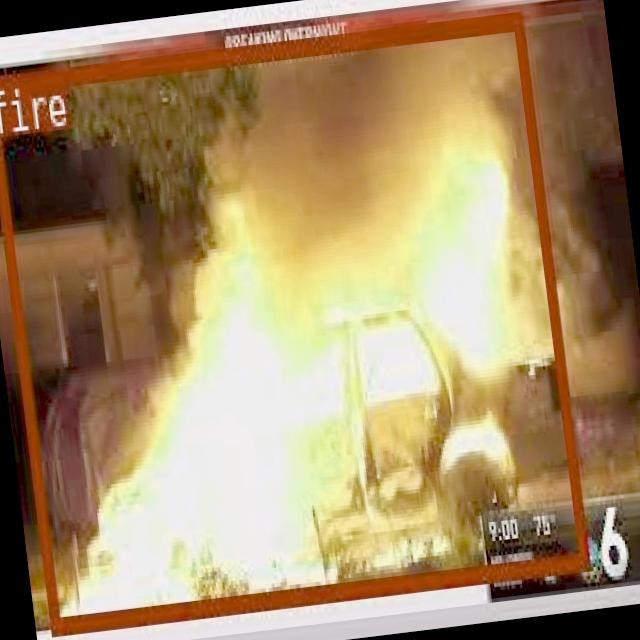fire: (0, 8, 587, 632)
